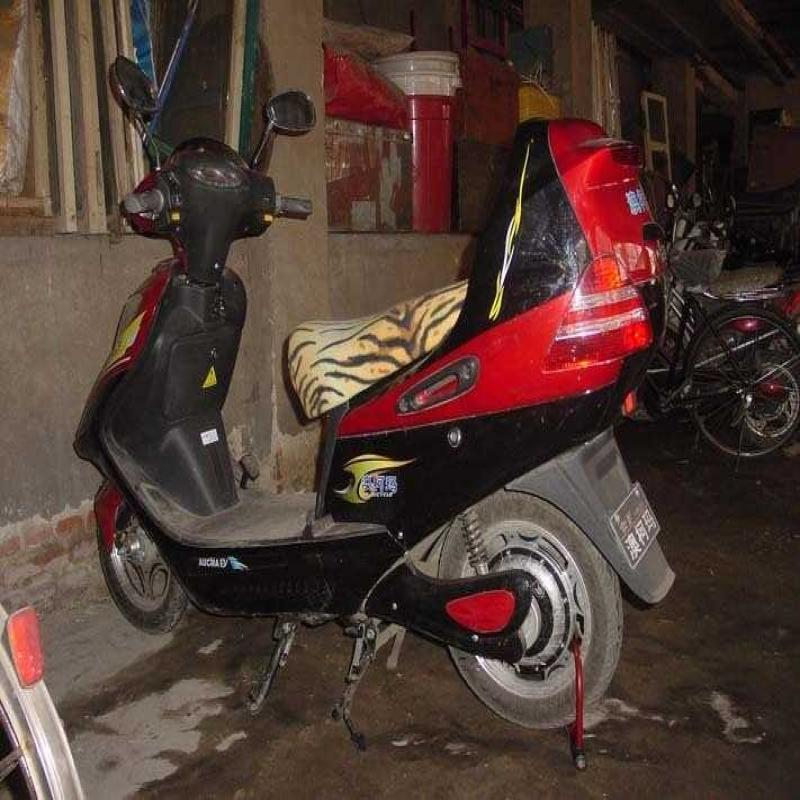bike: (77, 42, 672, 757)
